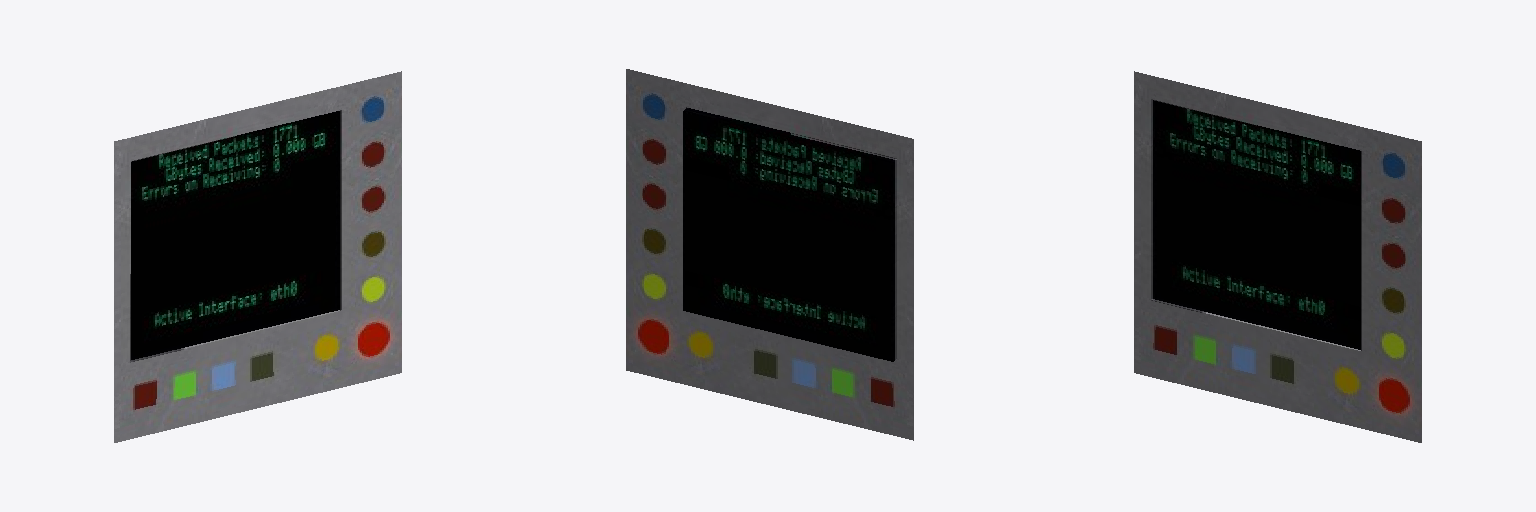
3 views of the same model, side by side, from view 1: azimuth 30°, elevation 25°; view 2: azimuth 150°, elevation 25°; view 3: azimuth 330°, elevation 25° (orthographic).
Parts seen in each view (by area): view 1: Object01; view 2: Object01; view 3: Object01.
Boxes of the visible parts, box(x1,y1,x2,y2) form: Object01: box(114, 71, 401, 442); Object01: box(626, 69, 913, 440); Object01: box(1134, 71, 1421, 442).
Bounding box in the file's own units: 20.04 × 20.04 × 0.45.
1 materials, 1 textured.